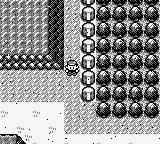main: (65, 60, 79, 76)
no-caminable: (96, 0, 159, 118), (0, 0, 64, 71), (81, 0, 96, 101), (0, 134, 25, 143)
